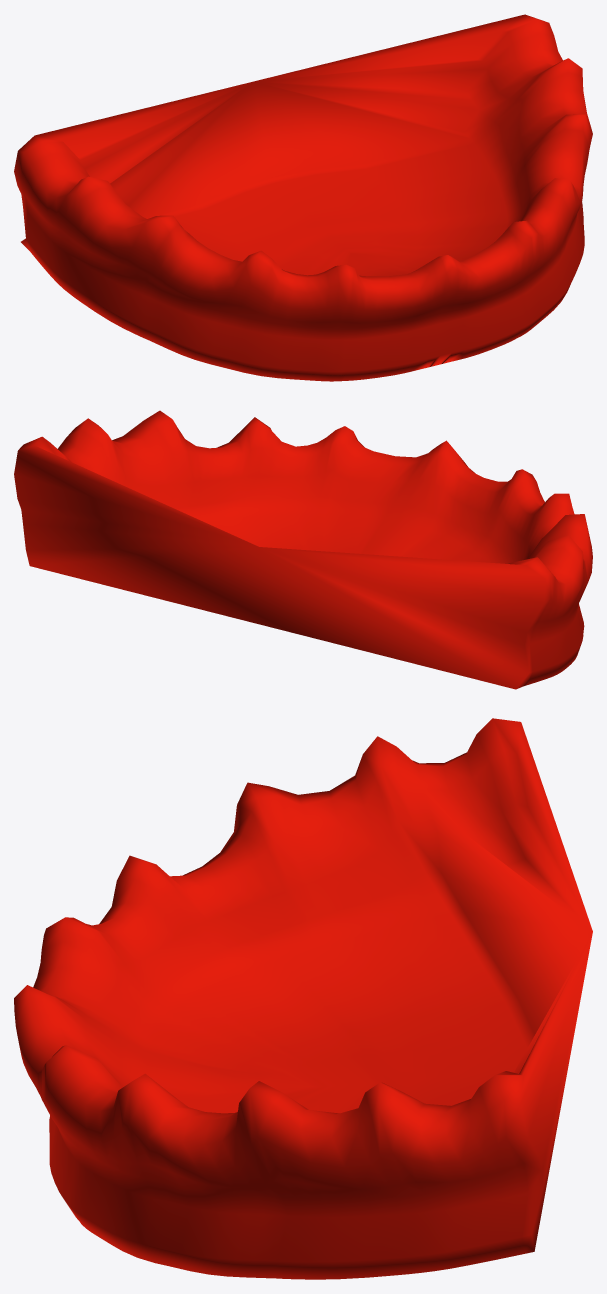
3 views of the same model, one above another, from view 1: azimuth 30°, elevation 25°; view 2: azimuth 150°, elevation 25°; view 3: azimuth 270°, elevation 25° (orthographic). The views are drawn at different scales.
Visible parts, largest first — view 1: Caine.Denture.001; view 2: Caine.Denture.001; view 3: Caine.Denture.001.
Part boxes in pixels (x1=…): Caine.Denture.001: x1=14, y1=14, x2=592, y2=381; Caine.Denture.001: x1=14, y1=410, x2=592, y2=689; Caine.Denture.001: x1=14, y1=718, x2=592, y2=1279.
Size of the model in its own units: 0.4587 by 0.148 by 0.2934.
